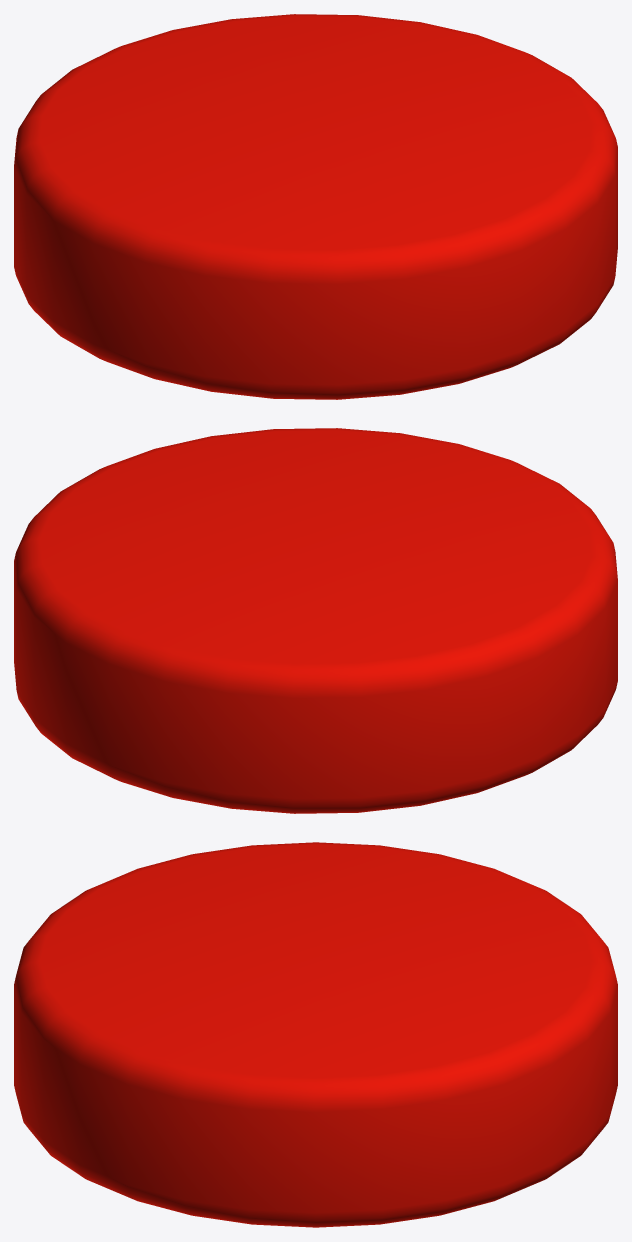
Rendered from roadmap_button.glb.
3 renders of one model, top to bottom at view 1: azimuth 30°, elevation 25°; view 2: azimuth 150°, elevation 25°; view 3: azimuth 270°, elevation 25°, orthographic.
Visible parts, largest first — view 1: Cylinder; view 2: Cylinder; view 3: Cylinder.
Part boxes in pixels (x1=…): Cylinder: x1=14, y1=14, x2=617, y2=399; Cylinder: x1=14, y1=428, x2=617, y2=813; Cylinder: x1=14, y1=842, x2=617, y2=1227.
Bounding box in the file's own units: 1.06 × 0.284 × 1.06.
